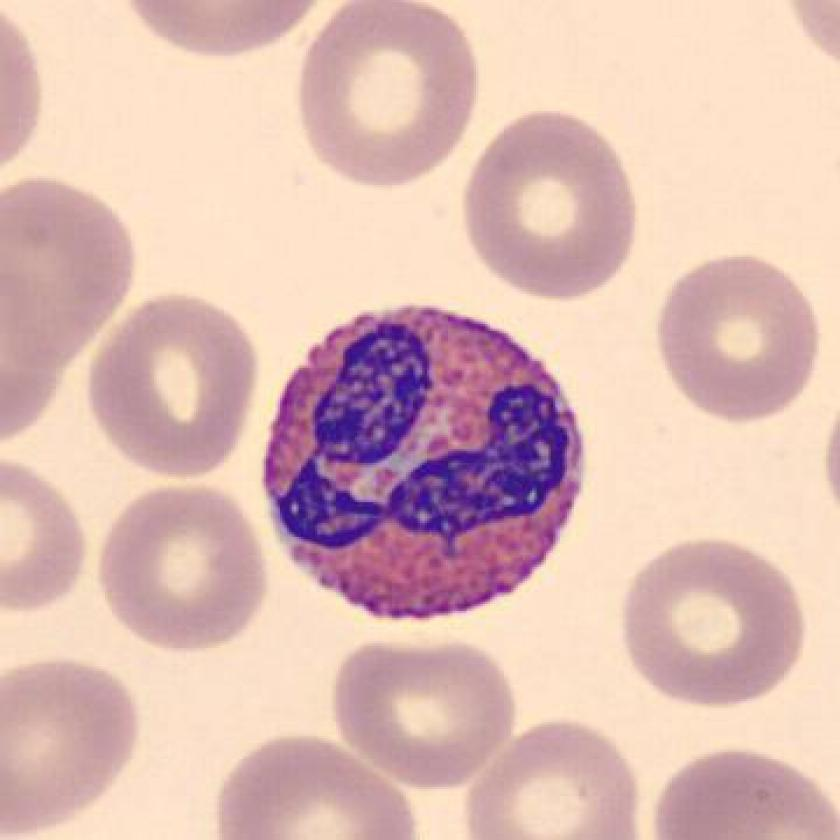eosinophil: (251, 293, 601, 638)
